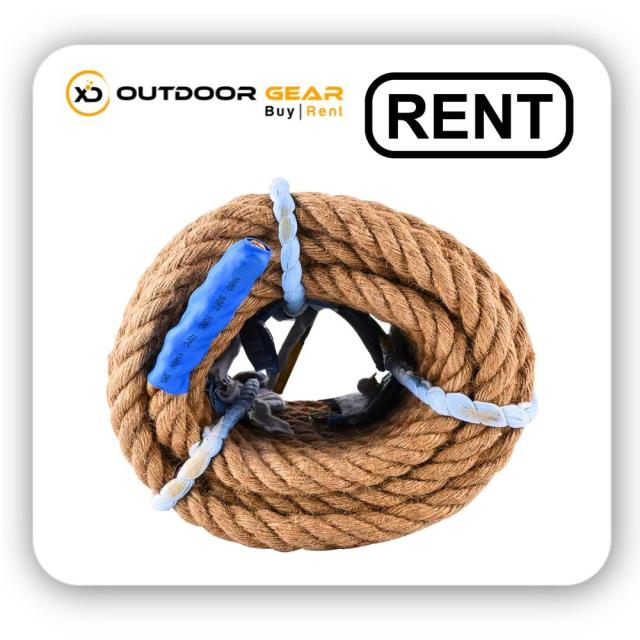Rope: (96, 180, 544, 562)
